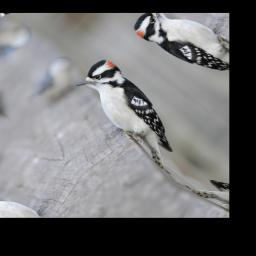Woodpecker: (57, 47, 213, 176)
